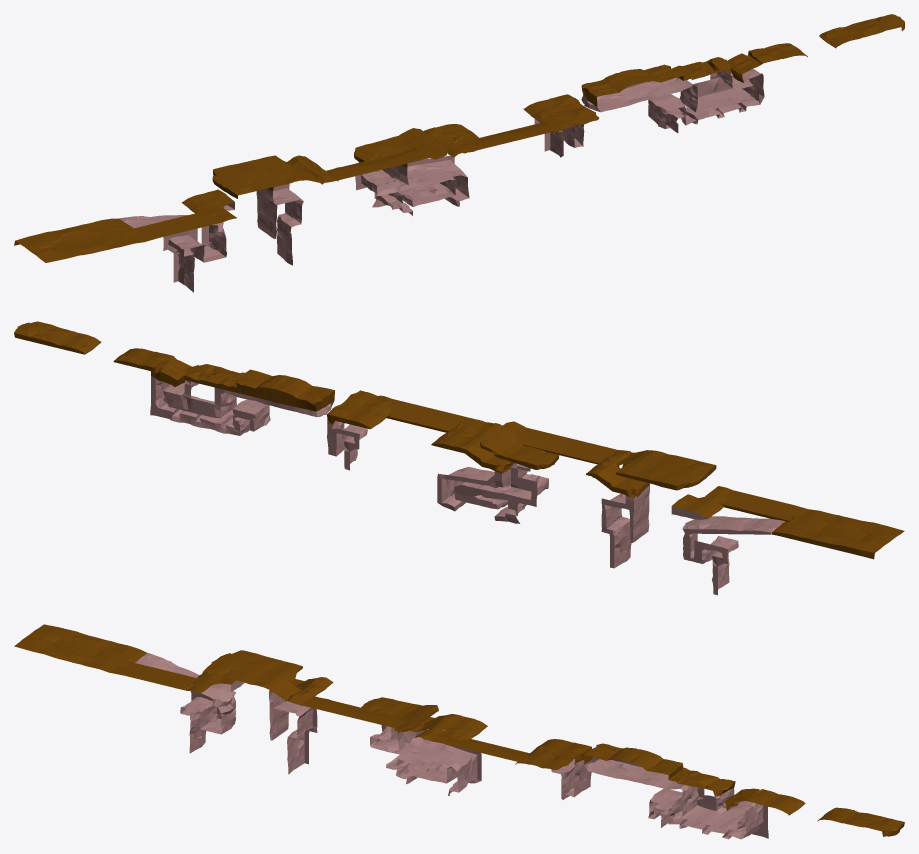
The model's file is Terrain.fbx.
3 renders of one model, top to bottom at view 1: azimuth 30°, elevation 25°; view 2: azimuth 150°, elevation 25°; view 3: azimuth 330°, elevation 25°, orthographic. The views are drawn at different scales.
Parts seen in each view (by area): view 1: Cave2, Ground13, Cave8, Cave5, Ground3, Ground10, Cave6, Cave1, Cave4, Ground7, Ground4, Ground8 (+8 smaller); view 2: Ground13, Ground3, Cave8, Cave5, Cave1, Ground10, Cave6, Cave2, Ground8, Ground6, Ground7, Ground4 (+8 smaller); view 3: Cave2, Ground13, Cave8, Ground3, Ground10, Cave1, Cave4, Cave6, Cave5, Ground8, Ground6, Ground4 (+8 smaller).
Part boxes in pixels (x1=…): Cave2: x1=581, y1=70, x2=754, y2=112; Ground13: x1=14, y1=218, x2=144, y2=262; Cave8: x1=119, y1=215, x2=226, y2=292; Cave5: x1=355, y1=165, x2=455, y2=215; Ground3: x1=581, y1=57, x2=731, y2=106; Ground10: x1=212, y1=155, x2=306, y2=198; Cave6: x1=256, y1=183, x2=303, y2=265; Cave1: x1=648, y1=69, x2=764, y2=132; Cave4: x1=398, y1=155, x2=469, y2=206; Ground7: x1=354, y1=128, x2=447, y2=162; Ground4: x1=523, y1=94, x2=598, y2=133; Ground8: x1=291, y1=144, x2=436, y2=182; Ground13: x1=772, y1=509, x2=904, y2=559; Ground3: x1=183, y1=364, x2=334, y2=411; Cave8: x1=682, y1=516, x2=784, y2=595; Cave5: x1=454, y1=463, x2=548, y2=523; Cave1: x1=150, y1=376, x2=270, y2=435; Ground10: x1=616, y1=450, x2=716, y2=490; Cave6: x1=601, y1=485, x2=649, y2=568; Cave2: x1=163, y1=380, x2=333, y2=418; Ground8: x1=513, y1=426, x2=647, y2=466; Ground6: x1=431, y1=419, x2=514, y2=473; Ground7: x1=480, y1=421, x2=559, y2=469; Ground4: x1=327, y1=390, x2=395, y2=429; Cave2: x1=584, y1=757, x2=745, y2=832; Ground13: x1=14, y1=624, x2=146, y2=672; Cave8: x1=135, y1=652, x2=235, y2=753; Ground3: x1=583, y1=743, x2=735, y2=796; Ground10: x1=202, y1=650, x2=302, y2=689; Cave1: x1=648, y1=789, x2=768, y2=839; Cave4: x1=398, y1=729, x2=481, y2=795; Cave6: x1=269, y1=691, x2=317, y2=774; Cave5: x1=370, y1=725, x2=457, y2=784; Ground8: x1=270, y1=679, x2=405, y2=727; Ground6: x1=398, y1=714, x2=487, y2=742; Ground4: x1=515, y1=739, x2=591, y2=770.
Size of the model in its own units: 613 by 69.01 by 42.27.
